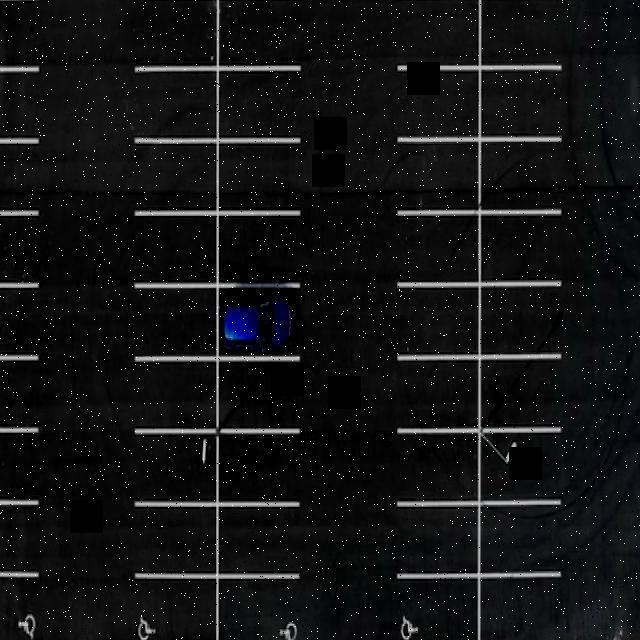car: (214, 280, 300, 368)
free: (132, 426, 222, 512), (395, 205, 482, 292), (397, 350, 482, 439), (131, 499, 220, 583), (216, 496, 302, 582), (478, 60, 562, 148), (396, 134, 482, 219), (132, 207, 220, 290), (216, 132, 300, 218), (214, 430, 304, 510), (396, 62, 483, 144), (476, 425, 560, 509), (476, 496, 558, 582), (216, 206, 300, 288), (134, 64, 220, 144), (132, 284, 218, 364), (397, 281, 482, 361), (397, 428, 482, 508), (132, 358, 222, 433), (478, 279, 560, 361), (398, 501, 482, 581), (216, 354, 300, 434), (478, 209, 560, 289), (478, 137, 562, 215), (135, 138, 219, 216), (214, 0, 300, 75), (134, 0, 220, 75), (478, 354, 558, 434), (479, 0, 561, 78), (214, 72, 300, 146), (394, 0, 481, 72), (397, 570, 482, 640), (479, 570, 559, 640), (0, 205, 44, 292), (0, 277, 42, 366), (0, 132, 42, 220), (0, 62, 42, 147), (0, 352, 43, 434), (0, 424, 40, 508), (0, 496, 40, 578), (0, 0, 41, 76)
